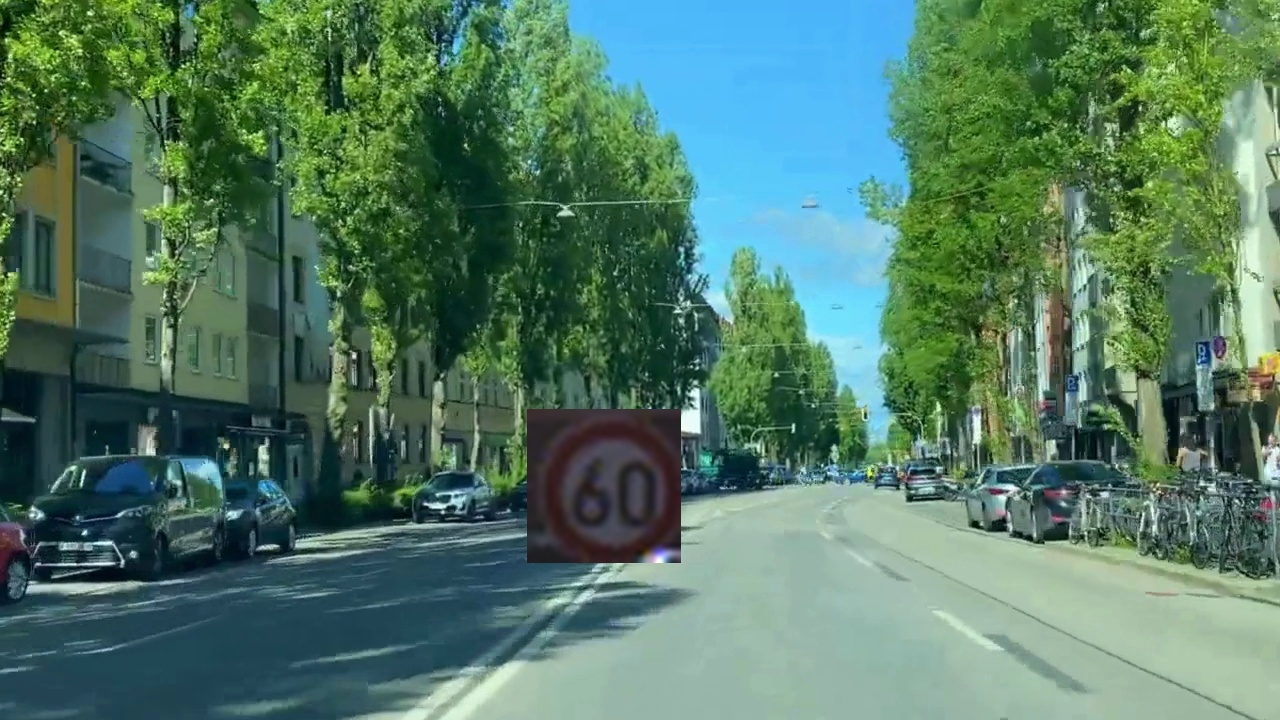Speed 60: (527, 409, 681, 563)
